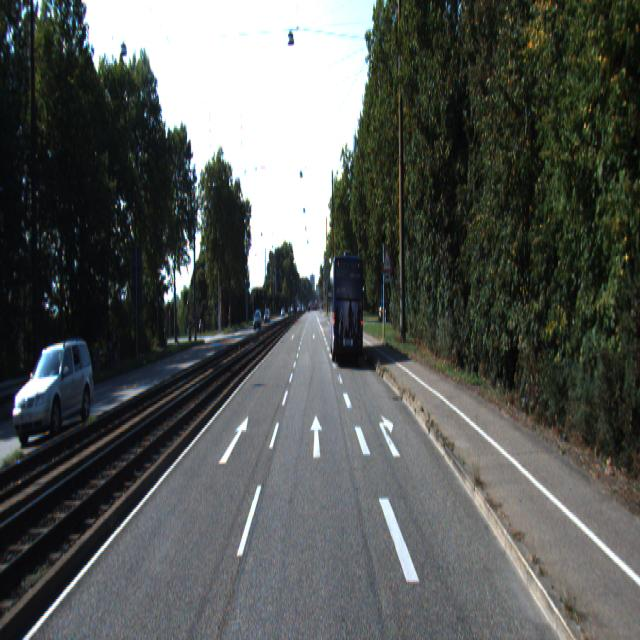Car: (12, 332, 100, 445)
DontCare: (253, 308, 271, 334), (378, 299, 394, 320), (280, 302, 294, 322)
Truck: (330, 250, 364, 364)
